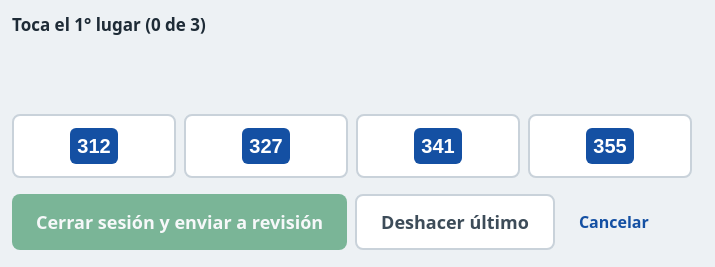
Test: TopNPicker — ingreso del Top N tocando números (SPEC 7.4) › I-7: confirma el Top 3 en el orden en que se tocaron
Later steps or results of the test are not shown.
Check: the button "Cerrar sesión y enviar a revisión" is disabled, box [12,194,347,250]
Click the button "341" at (438, 146), box [356,114,520,178]
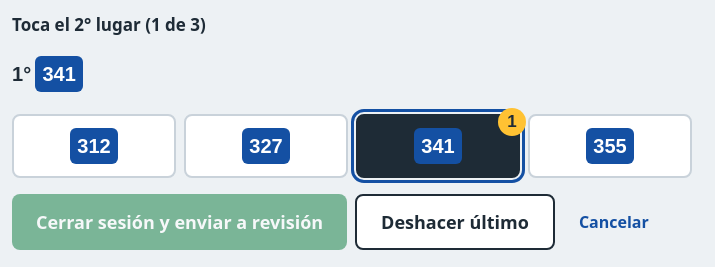
Click the button named "Kart 312," at (94, 146), box [12,114,176,178]
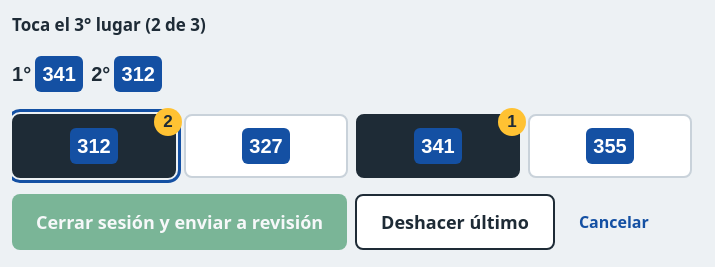
Click the button "355" at (610, 146), box [528,114,692,178]
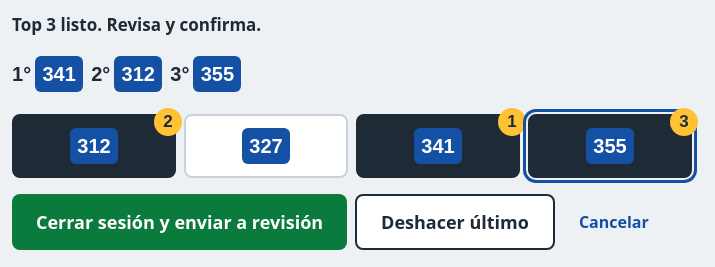
Check: the button "Cerrar sesión y enviar a revisión" is enabled, box [12,194,347,250]
